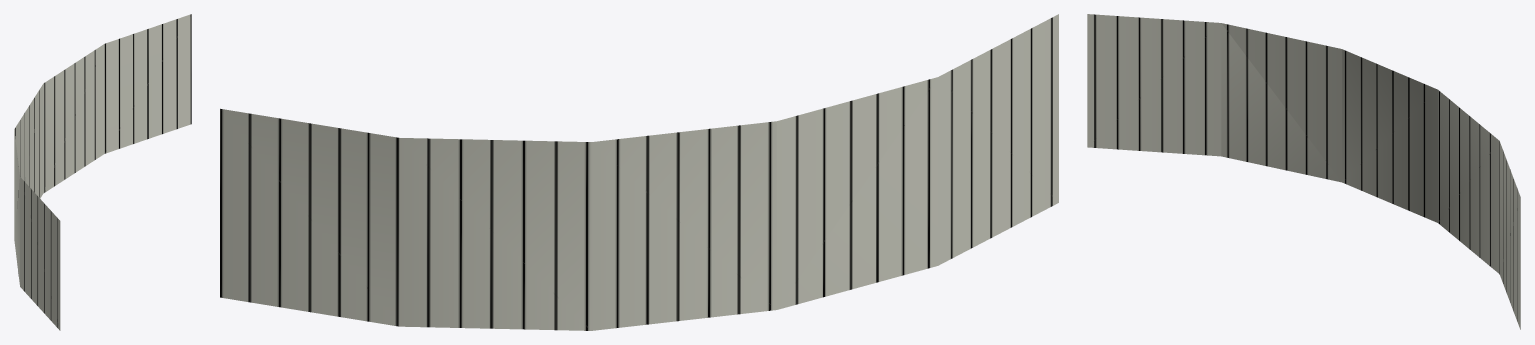
File: TileWallOuterCurvedNoBack.fbx
3 views of the same model, side by side, from view 1: azimuth 30°, elevation 25°; view 2: azimuth 150°, elevation 25°; view 3: azimuth 270°, elevation 25° (orthographic). The views are drawn at different scales.
Parts seen in each view (by area): view 1: TileWallCurvedOuter; view 2: TileWallCurvedOuter; view 3: TileWallCurvedOuter.
Boxes of the visible parts, x1=… form: TileWallCurvedOuter: x1=14, y1=14, x2=191, y2=330; TileWallCurvedOuter: x1=220, y1=14, x2=1058, y2=330; TileWallCurvedOuter: x1=1087, y1=14, x2=1520, y2=329.
Size of the model in its own units: 2949 by 1000 by 2945.
